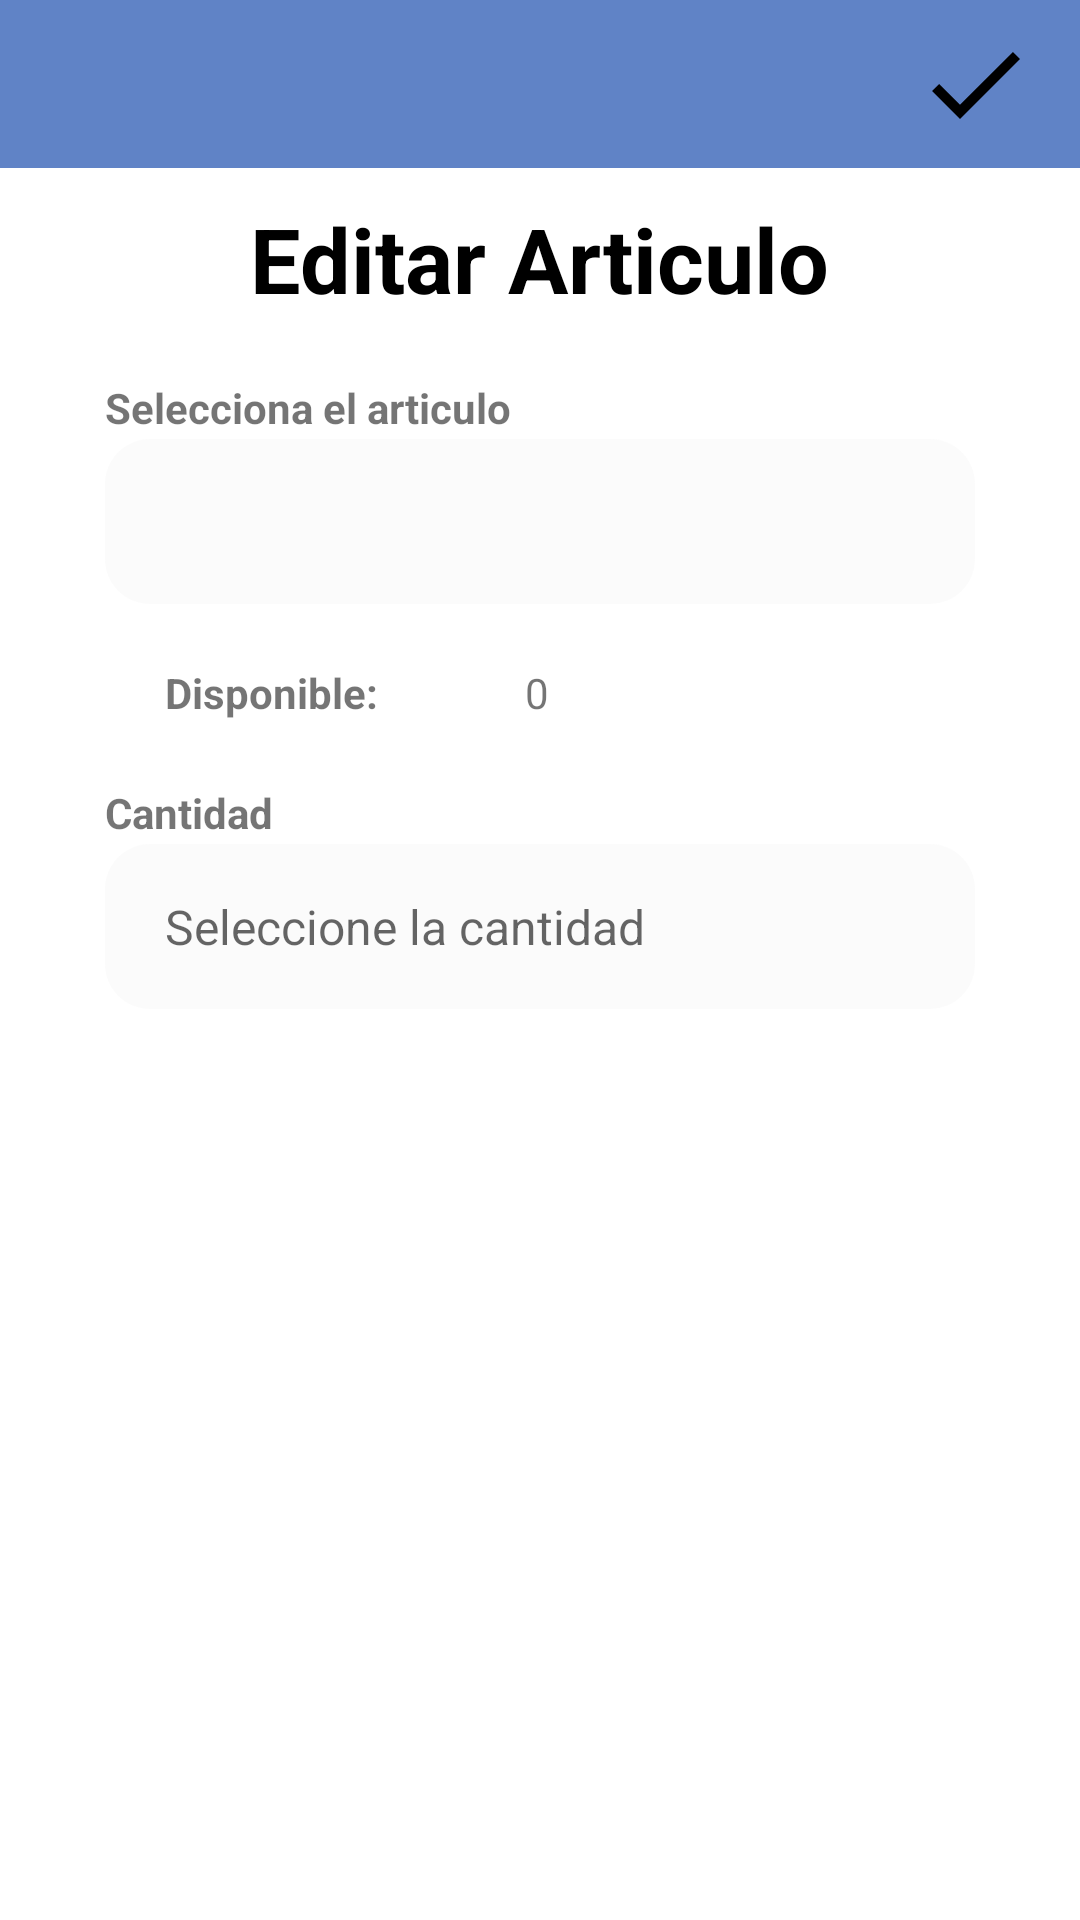

Where to tap for icons on this 1080px x 1920px app screen, as point (x, y):
salvar: point (976, 85)
